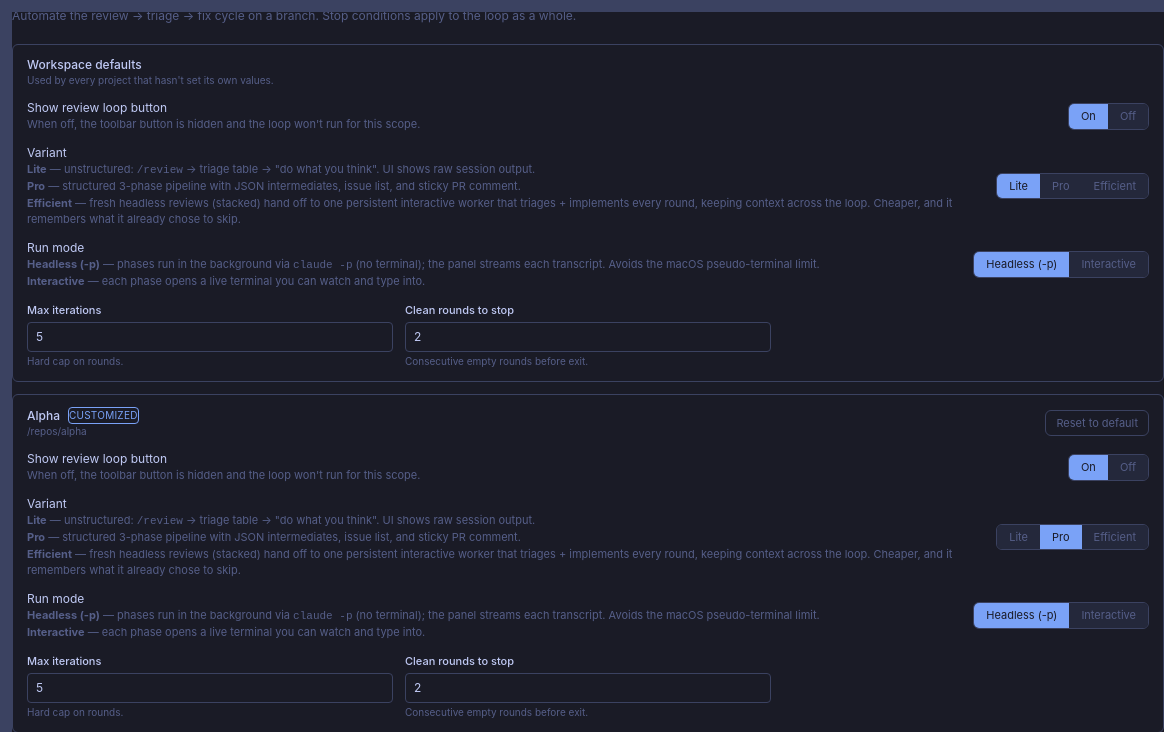
Scenario: ReviewLoopSettings › setting a project value back to the workspace value collapses the override
(page scrolled)
Click the 2nd radio button labelled "Lite".
click(1019, 537)  # box x1=997 y1=525 x2=1040 y2=549
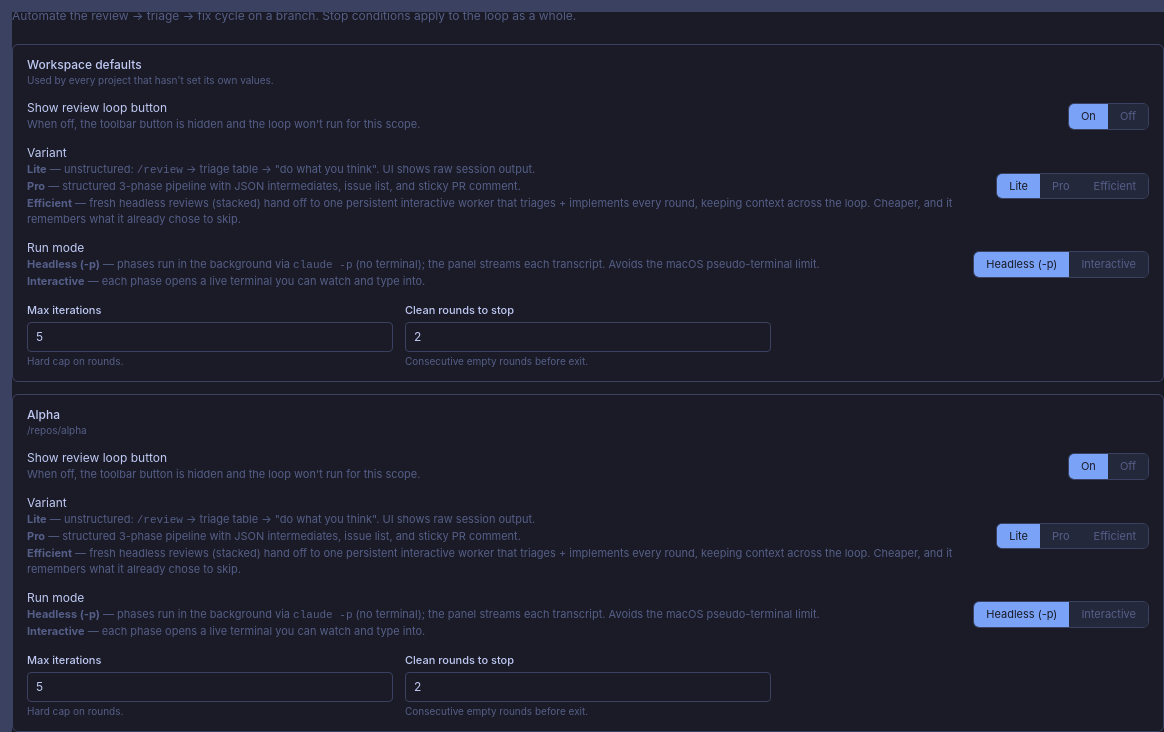
Now the text "Customized" is gone
